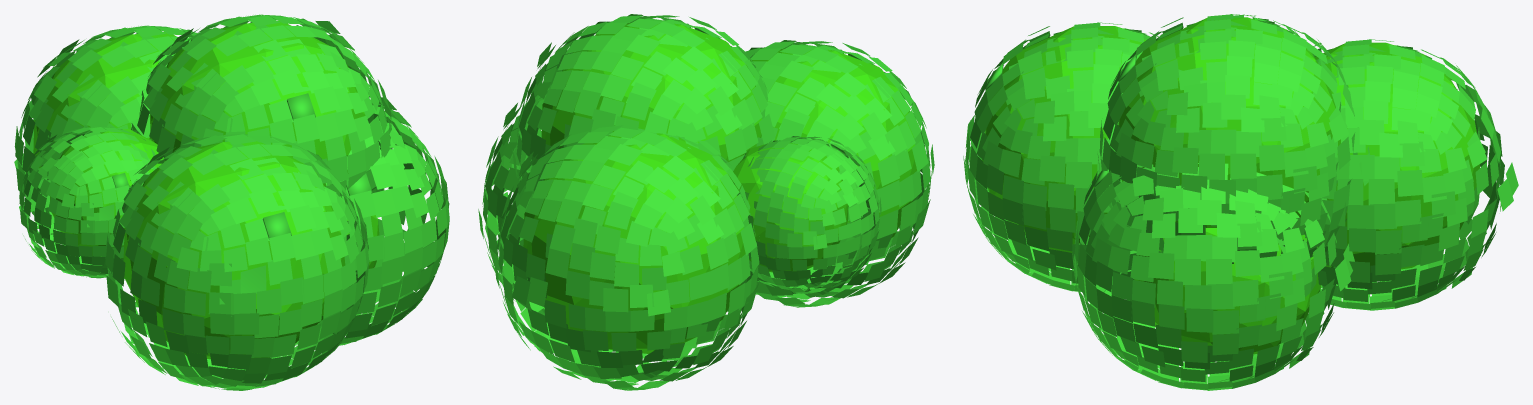
File: arbusto de relleno.glb
The picture shows the model from 3 angles, left to right: view 1: azimuth 30°, elevation 25°; view 2: azimuth 150°, elevation 25°; view 3: azimuth 270°, elevation 25°; orthographic projection. The views are drawn at different scales.
Parts seen in each view (by area): view 1: Cube.005, Cube.007, Cube.009, Cube.004, Cube.003, Cube, Cube.006, Cube.001, Cube.002; view 2: Cube.003, Cube.007, Cube.005, Cube.004, Cube.001, Cube.006, Cube, Cube.009, Cube.002; view 3: Cube.009, Cube.007, Cube.003, Cube.005, Cube.006, Cube.001, Cube, Cube.008.
Boxes of the visible parts, x1,y1,x2,y2 form: Cube.005: [105, 134, 369, 390]; Cube.007: [131, 14, 392, 240]; Cube.009: [296, 97, 449, 345]; Cube.004: [19, 126, 156, 278]; Cube.003: [14, 25, 197, 280]; Cube: [123, 141, 345, 359]; Cube.006: [149, 21, 365, 186]; Cube.001: [33, 32, 176, 168]; Cube.002: [50, 129, 164, 258]; Cube.003: [494, 125, 759, 390]; Cube.007: [512, 14, 775, 198]; Cube.005: [745, 40, 934, 307]; Cube.004: [737, 136, 881, 293]; Cube.001: [523, 131, 745, 353]; Cube.006: [541, 22, 761, 161]; Cube: [750, 48, 919, 238]; Cube.009: [478, 90, 548, 315]; Cube.002: [730, 143, 848, 272]; Cube.009: [1072, 151, 1354, 390]; Cube.007: [1097, 14, 1369, 263]; Cube.003: [1304, 39, 1518, 310]; Cube.005: [963, 22, 1158, 292]; Cube.006: [1118, 17, 1335, 227]; Cube.001: [1314, 42, 1479, 272]; Cube: [982, 26, 1150, 252]; Cube.008: [1134, 228, 1321, 354].
Bounding box in the file's own units: 0.566 × 0.4301 × 0.6637.
